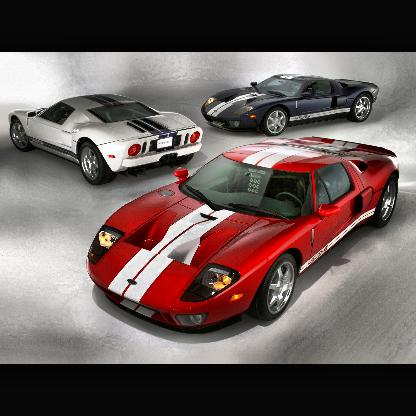Ford GT Coupe 2006: (86, 137, 401, 335)
